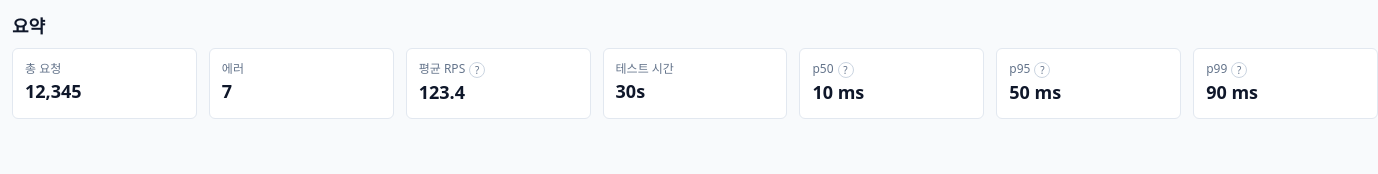
Test: Summary › p50/p95/p99 카드에 도움말 버튼이 있고 클릭하면 용어 설명이 열린다
Expected: the button named "p50 설명" is shown, [838,62,854,78]
Expected: the button named "p99 설명" is shown, [1231,62,1247,78]
Click the button named "p95 설명": [1042, 70] box [1034,62,1050,78]
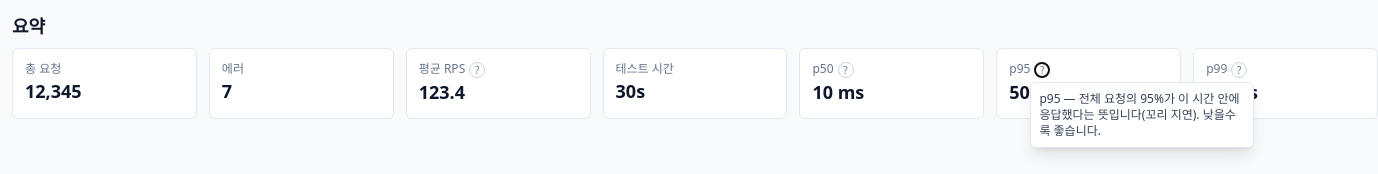
Expected: the text "p95 — 전체 요청의 95%가 이 시간 안에 응답했다는 뜻입니다(꼬리 지연). 낮을수록 좋습니다." is shown, [1030,82,1254,148]
